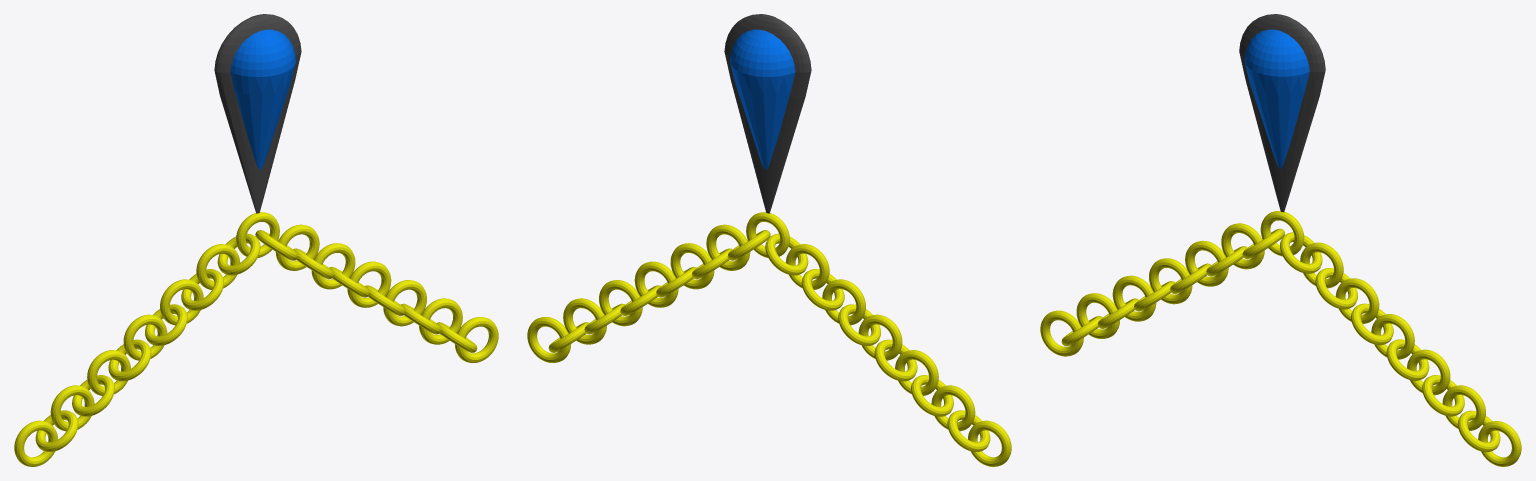
The model's file is WaterDroplet_necklace.fbx.
3 renders of one model, left to right at view 1: azimuth 30°, elevation 25°; view 2: azimuth 150°, elevation 25°; view 3: azimuth 330°, elevation 25°, orthographic.
Visible parts, largest first — view 1: gem.DC, casing_DC, Torus.024, Torus.012, Torus, Torus.004, Torus.022, Torus.018, Torus.006, Torus.003, Torus.010, Torus.016 (+10 smaller); view 2: gem.DC, casing_DC, Torus.024, Torus.012, Torus, Torus.004, Torus.022, Torus.018, Torus.006, Torus.010, Torus.003, Torus.016 (+10 smaller); view 3: gem.DC, casing_DC, Torus.024, Torus.012, Torus, Torus.014, Torus.003, Torus.008, Torus.020, Torus.022, Torus.004, Torus.010 (+10 smaller).
Part boxes in pixels (x1=…): gem.DC: x1=230, y1=29, x2=295, y2=169; casing_DC: x1=214, y1=14, x2=301, y2=213; Torus.024: x1=14, y1=420, x2=57, y2=466; Torus.012: x1=455, y1=317, x2=498, y2=362; Torus: x1=236, y1=212, x2=279, y2=257; Torus.004: x1=311, y1=243, x2=355, y2=289; Torus.022: x1=50, y1=385, x2=94, y2=431; Torus.018: x1=123, y1=314, x2=167, y2=360; Torus.006: x1=347, y1=261, x2=391, y2=307; Torus.003: x1=275, y1=224, x2=319, y2=270; Torus.010: x1=419, y1=298, x2=462, y2=344; Torus.016: x1=160, y1=279, x2=203, y2=325; gem.DC: x1=730, y1=29, x2=795, y2=169; casing_DC: x1=724, y1=14, x2=811, y2=213; Torus.024: x1=968, y1=420, x2=1011, y2=466; Torus.012: x1=527, y1=317, x2=570, y2=362; Torus: x1=746, y1=212, x2=789, y2=257; Torus.004: x1=670, y1=243, x2=714, y2=289; Torus.022: x1=931, y1=385, x2=975, y2=431; Torus.018: x1=858, y1=314, x2=902, y2=360; Torus.006: x1=634, y1=261, x2=678, y2=307; Torus.010: x1=563, y1=298, x2=606, y2=344; Torus.003: x1=706, y1=224, x2=750, y2=270; Torus.016: x1=822, y1=279, x2=865, y2=325; gem.DC: x1=1244, y1=29, x2=1309, y2=168; casing_DC: x1=1239, y1=14, x2=1325, y2=212; Torus.024: x1=1040, y1=310, x2=1083, y2=356; Torus.012: x1=1478, y1=421, x2=1521, y2=466; Torus: x1=1260, y1=211, x2=1304, y2=256; Torus.014: x1=1221, y1=223, x2=1264, y2=269; Torus.003: x1=1300, y1=242, x2=1343, y2=288; Torus.008: x1=1407, y1=349, x2=1450, y2=395; Torus.020: x1=1112, y1=275, x2=1156, y2=321; Torus.022: x1=1076, y1=293, x2=1119, y2=338; Torus.004: x1=1335, y1=278, x2=1379, y2=323; Torus.010: x1=1442, y1=385, x2=1485, y2=430.
Size of the model in its own units: 1141 by 902 by 156.
